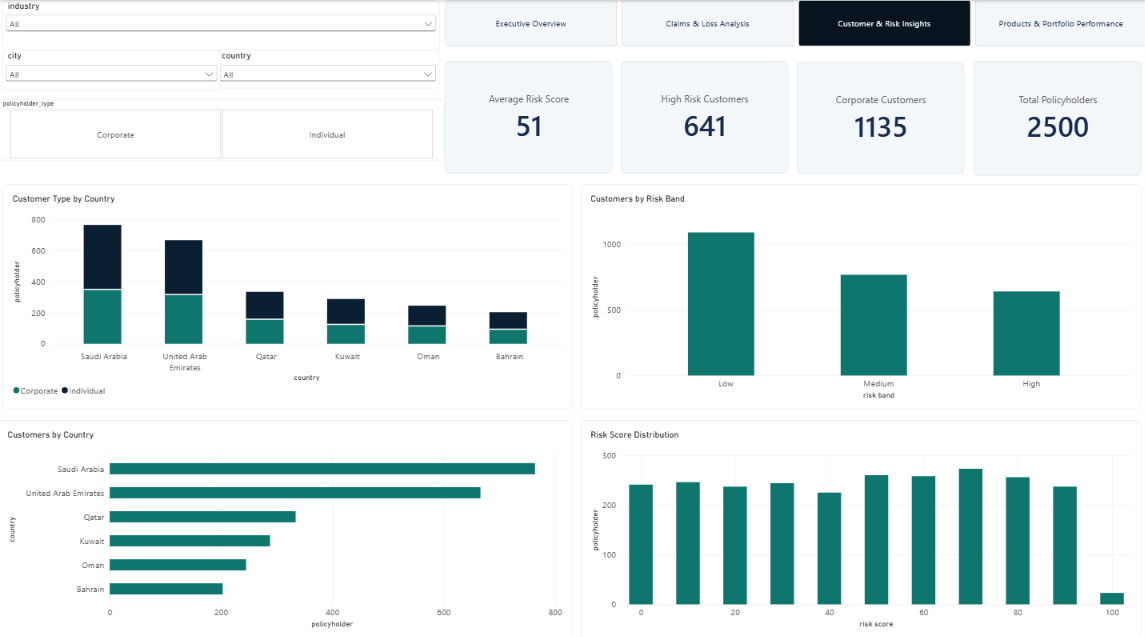

Layout of this report page (visuals, bound fields, positions):
{"tool":"powerbi","page":{"name":"Customer & Risk Insights","canvas":[1920,1080],"ordinal":2},"visuals":[{"type":"cardVisual","fields":{"Data":["public raw_policyholders.Total Policyholders"]},"box":[1630,102,280,192],"z":0},{"type":"cardVisual","fields":{"Data":["public raw_policyholders.High Risk Customers"]},"box":[1040,102,280,188],"z":1000},{"type":"cardVisual","fields":{"Data":["public raw_policyholders.Average Risk Score"]},"box":[746,102,280,188],"z":2000},{"type":"cardVisual","fields":{"Data":["public raw_policyholders.Corporate Customers"]},"box":[1334,104,280,188],"z":3000},{"type":"clusteredColumnChart","title":"Customers by Risk Band","fields":{"Category":["public raw_policyholders.risk_band"],"Y":["public raw_policyholders.Total Policyholders"]},"box":[974,308,936,376],"z":4000},{"type":"clusteredColumnChart","title":"Risk Score Distribution","fields":{"Category":["public raw_policyholders.risk_score (bins)"],"Y":["Count(public raw_policyholders.policyholder_id)"]},"box":[974,702,936,364],"z":5000},{"type":"clusteredBarChart","title":"Customers by Country","fields":{"Category":["public raw_policyholders.country"],"Y":["CountNonNull(public raw_policyholders.policyholder_id)"]},"box":[0,702,960,364],"z":6000},{"type":"columnChart","title":"Customer Type by Country","fields":{"Category":["public raw_policyholders.country"],"Series":["public raw_policyholders.policyholder_type"],"Y":["Count(public raw_policyholders.policyholder_id)"]},"box":[8,308,952,376],"z":7000},{"type":"slicer","fields":{"Values":["public raw_policyholders.country"]},"box":[366,84,372,64],"z":8000},{"type":"slicer","fields":{"Values":["public raw_policyholders.city"]},"box":[8,84,364,68],"z":9000},{"type":"slicer","fields":{"Values":["public raw_policyholders.policyholder_type"]},"box":[0,166,746,102],"z":10000},{"type":"slicer","fields":{"Values":["public raw_policyholders.industry"]},"box":[8,0,730,84],"z":11000},{"type":"pageNavigator","box":[746,0,1174,78],"z":12000}]}

Visuals, with their boxes in screenshot pixels (x1, y1, x2, y2), scaled from the page's 1920x1080 canvas onto the 1145x637 screenshot:
cardVisual - public raw_policyholders.Total Policyholders: detection(972, 60, 1139, 173)
cardVisual - public raw_policyholders.High Risk Customers: detection(620, 60, 787, 171)
cardVisual - public raw_policyholders.Average Risk Score: detection(445, 60, 612, 171)
cardVisual - public raw_policyholders.Corporate Customers: detection(796, 61, 963, 172)
"Customers by Risk Band" clusteredColumnChart: detection(581, 182, 1139, 403)
"Risk Score Distribution" clusteredColumnChart: detection(581, 414, 1139, 629)
"Customers by Country" clusteredBarChart: detection(0, 414, 572, 629)
"Customer Type by Country" columnChart: detection(5, 182, 572, 403)
slicer - public raw_policyholders.country: detection(218, 50, 440, 87)
slicer - public raw_policyholders.city: detection(5, 50, 222, 90)
slicer - public raw_policyholders.policyholder_type: detection(0, 98, 445, 158)
slicer - public raw_policyholders.industry: detection(5, 0, 440, 50)
pageNavigator: detection(445, 0, 1144, 46)
